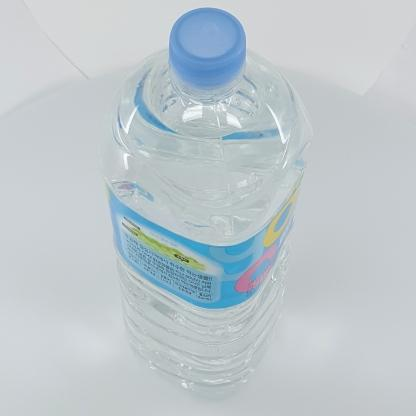--------1-5L: (98, 7, 313, 400)
